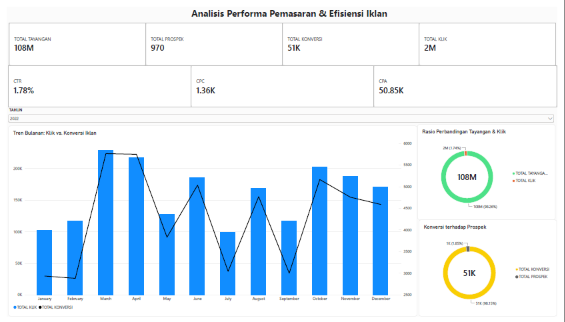

Layout of this report page (visuals, bound fields, positions):
{"tool":"powerbi","page":{"name":"Page 2","canvas":[1920,1080],"ordinal":1},"visuals":[{"type":"textbox","box":[10,0,1910,55],"z":0},{"type":"cardVisual","fields":{"Data":["_MEASURE.TOTAL TAYANGAN","_MEASURE.TOTAL PROSPEK","_MEASURE.TOTAL KONVERSI","_MEASURE.TOTAL KLIK"]},"box":[7.5,55,1910,150],"z":1000},{"type":"cardVisual","fields":{"Data":["_MEASURE.CTR","_MEASURE.CPC","_MEASURE.CPA"]},"box":[5,205,1915,145],"z":2000},{"type":"slicer","fields":{"Values":["campaigns2.Tanggal Mulai.Variation.Date Hierarchy.Year","campaigns2.Tanggal Mulai.Variation.Date Hierarchy.Quarter","campaigns2.Tanggal Mulai.Variation.Date Hierarchy.Month","campaigns2.Tanggal Mulai.Variation.Date Hierarchy.Day"]},"box":[0,351.7,1915,63.3],"z":3000},{"type":"donutChart","title":"Rasio Perbandingan Tayangan & Klik","fields":{"Y":["_MEASURE.TOTAL TAYANGAN","_MEASURE.TOTAL KLIK"]},"box":[1432.5,410,482.5,332.5],"z":4000},{"type":"donutChart","title":"Konversi terhadap Prospek","fields":{"Y":["_MEASURE.TOTAL KONVERSI","_MEASURE.TOTAL PROSPEK"]},"box":[1437.5,742.5,482.5,337.5],"z":5000},{"type":"lineClusteredColumnComboChart","title":"Tren Bulanan: Klik vs. Konversi Iklan","fields":{"Category":["campaigns2.Tanggal Mulai.Variation.Date Hierarchy.Month"],"Y":["_MEASURE.TOTAL KLIK"],"Y2":["_MEASURE.TOTAL KONVERSI"]},"box":[5,415,1427.5,665],"z":6000}]}

Visuals, with their boxes in screenshot pixels (x1, y1, x2, y2), scaled from the page's 1920x1080 canvas onto the 565x322 screenshot:
textbox: rect(3, 0, 564, 16)
cardVisual - _MEASURE.TOTAL TAYANGAN x _MEASURE.TOTAL PROSPEK: rect(2, 16, 564, 61)
cardVisual - _MEASURE.CTR x _MEASURE.CPC: rect(1, 61, 564, 104)
slicer - campaigns2.Tanggal Mulai.Variation.Date Hierarchy.Year x campaigns2.Tanggal Mulai.Variation.Date Hierarchy.Quarter: rect(0, 105, 564, 124)
"Rasio Perbandingan Tayangan & Klik" donutChart: rect(422, 122, 564, 221)
"Konversi terhadap Prospek" donutChart: rect(423, 221, 564, 321)
"Tren Bulanan: Klik vs. Konversi Iklan" lineClusteredColumnComboChart: rect(1, 124, 422, 321)
